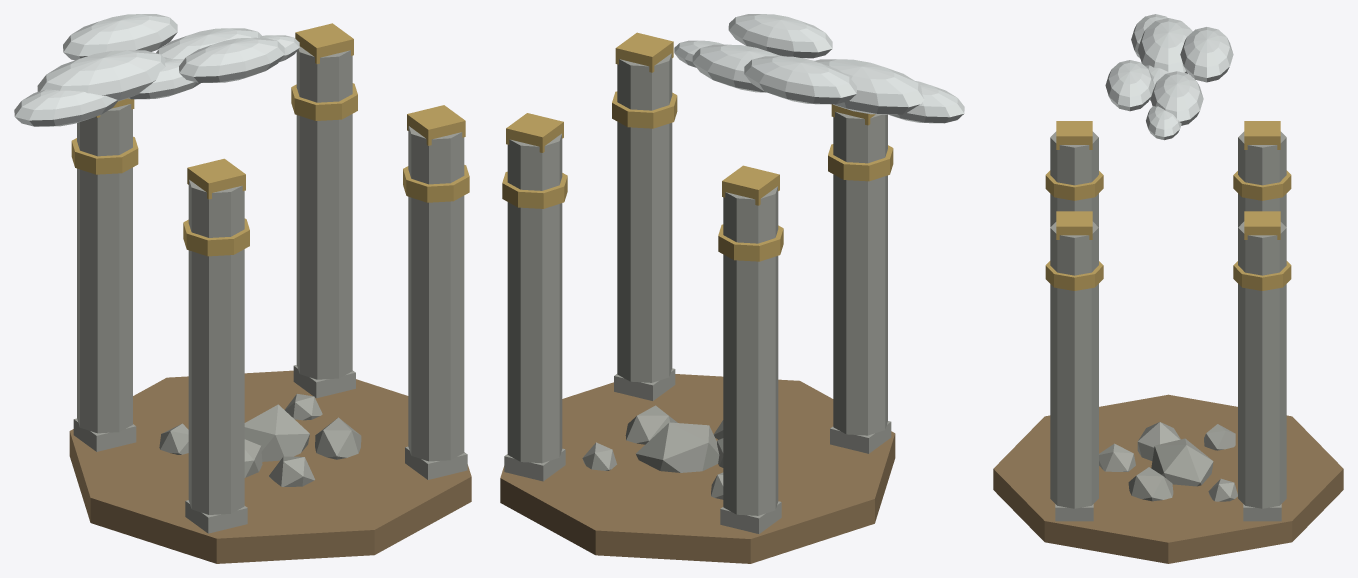
Rendered from field-formation.glb.
The picture shows the model from 3 angles, left to right: view 1: azimuth 30°, elevation 25°; view 2: azimuth 150°, elevation 25°; view 3: azimuth 270°, elevation 25°; orthographic projection. The views are drawn at different scales.
Visible parts, largest first — view 1: formation_base, formation_pillar_1, formation_pillar_0, formation_pillar_3, formation_pillar_2, formation_cloud_1, formation_cloud_5, formation_cloud_6, formation_cloud_0, formation_rock_1, formation_pillar_cap_1, formation_cloud_3 (+16 smaller); view 2: formation_base, formation_pillar_1, formation_pillar_3, formation_pillar_2, formation_pillar_0, formation_cloud_5, formation_cloud_1, formation_cloud_6, formation_rock_1, formation_cloud_3, formation_cloud_0, formation_pillar_cap_1 (+13 smaller); view 3: formation_base, formation_pillar_1, formation_pillar_3, formation_pillar_0, formation_pillar_2, formation_cloud_5, formation_rock_1, formation_cloud_1, formation_cloud_3, formation_cloud_6, formation_rock_2, formation_pillar_ring_0 (+15 smaller).
Boxes of the visible parts, x1,y1,x2,y2 form: formation_base: (69, 370, 471, 563); formation_pillar_1: (408, 126, 464, 461); formation_pillar_0: (188, 179, 244, 514); formation_pillar_3: (296, 46, 352, 379); formation_pillar_2: (77, 104, 132, 433); formation_cloud_1: (37, 50, 165, 101); formation_cloud_5: (63, 14, 177, 60); formation_cloud_6: (179, 37, 284, 82); formation_cloud_0: (14, 89, 117, 126); formation_rock_1: (244, 404, 309, 461); formation_pillar_cap_1: (407, 105, 465, 145); formation_cloud_3: (156, 28, 261, 59); formation_base: (500, 374, 895, 563); formation_pillar_1: (617, 53, 672, 382); formation_pillar_3: (507, 133, 562, 463); formation_pillar_2: (723, 186, 778, 515); formation_pillar_0: (833, 112, 887, 435); formation_cloud_5: (744, 56, 856, 104); formation_cloud_1: (814, 59, 924, 114); formation_cloud_6: (728, 14, 832, 58); formation_rock_1: (636, 422, 719, 472); formation_cloud_3: (692, 44, 781, 92); formation_cloud_0: (889, 81, 964, 123); formation_pillar_cap_1: (615, 32, 673, 72); formation_base: (993, 394, 1343, 563); formation_pillar_1: (1050, 221, 1098, 508); formation_pillar_3: (1238, 221, 1286, 508); formation_pillar_0: (1050, 131, 1098, 227); formation_pillar_2: (1238, 131, 1286, 227); formation_cloud_5: (1180, 27, 1233, 82); formation_rock_1: (1151, 438, 1213, 486); formation_cloud_1: (1138, 18, 1192, 73); formation_cloud_3: (1150, 71, 1203, 125); formation_cloud_6: (1105, 60, 1154, 111); formation_rock_2: (1128, 467, 1173, 501); formation_pillar_ring_0: (1045, 170, 1103, 200).
Bounding box in the file's own units: 1.01 × 1.06 × 0.82.
